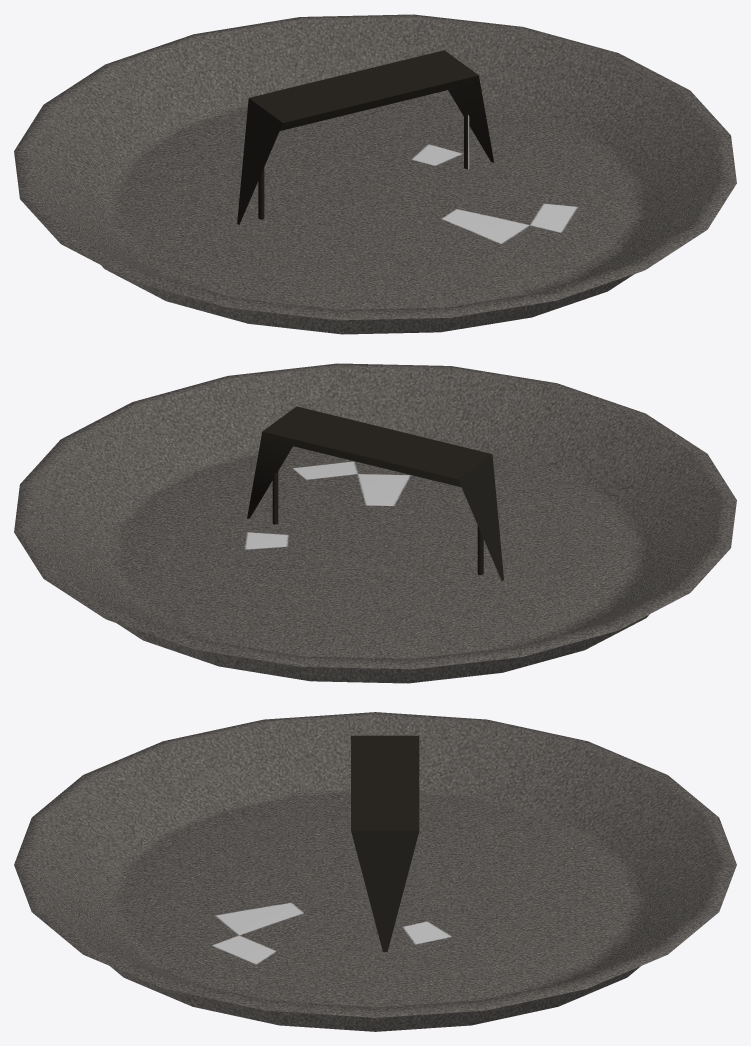
Rendered from shilder.fbx.
The picture shows the model from 3 angles, top to bottom: view 1: azimuth 30°, elevation 25°; view 2: azimuth 150°, elevation 25°; view 3: azimuth 270°, elevation 25°; orthographic projection.
Parts seen in each view (by area): view 1: pCube3; view 2: pCube3; view 3: pCube3.
Boxes of the visible parts, <box> form: pCube3: <box>14,14,736,334</box>; pCube3: <box>14,363,736,683</box>; pCube3: <box>14,712,736,1031</box>.
Size of the model in its own units: 0.771 by 0.1716 by 0.771.
Materials: 1 (1 with a texture image).
